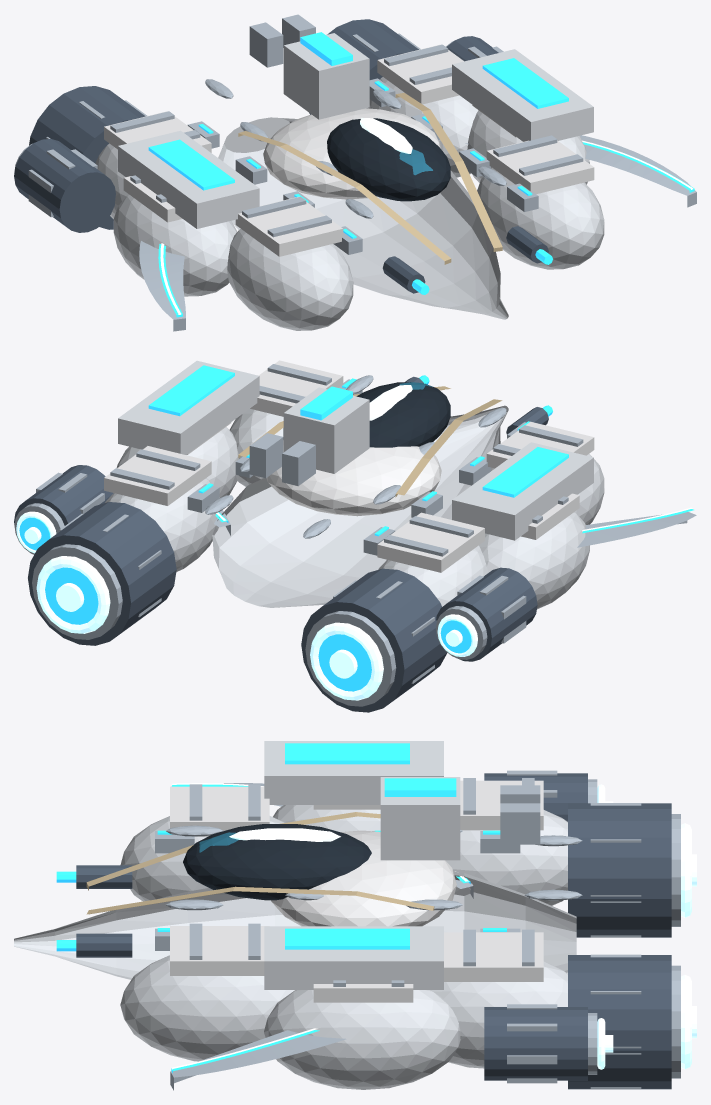
The model's file is SL_BASTION_FINAL.glb.
The picture shows the model from 3 angles, top to bottom: view 1: azimuth 30°, elevation 25°; view 2: azimuth 150°, elevation 25°; view 3: azimuth 270°, elevation 25°; orthographic projection. The views are drawn at different scales.
Visible parts, largest first — view 1: armor, highlight, panel, shadow, neon, black, trim, bright; view 2: armor, shadow, panel, highlight, neon, bright, black, trim; view 3: armor, shadow, highlight, panel, black, neon, bright, trim.
Part boxes in pixels (bbox=[...]): armor: bbox=[95, 33, 604, 330]; highlight: bbox=[104, 44, 594, 256]; panel: bbox=[14, 14, 696, 331]; shadow: bbox=[14, 19, 548, 293]; neon: bbox=[148, 32, 694, 317]; black: bbox=[327, 118, 450, 201]; trim: bbox=[238, 92, 502, 264]; bright: bbox=[160, 118, 693, 314]; armor: bbox=[105, 360, 604, 609]; shadow: bbox=[14, 376, 548, 712]; panel: bbox=[14, 364, 696, 706]; highlight: bbox=[104, 360, 594, 572]; neon: bbox=[19, 365, 693, 691]; bright: bbox=[16, 385, 692, 700]; black: bbox=[356, 382, 450, 447]; trim: bbox=[238, 386, 502, 497]; armor: bbox=[14, 741, 576, 1089]; shadow: bbox=[76, 773, 671, 1089]; highlight: bbox=[170, 780, 543, 1002]; panel: bbox=[155, 770, 680, 1090]; black: bbox=[183, 824, 371, 900]; neon: bbox=[56, 743, 506, 1073]; bright: bbox=[171, 783, 696, 1069]; trim: bbox=[86, 812, 434, 914].
Size of the model in its own units: 5.18 by 1.86 by 5.14.
